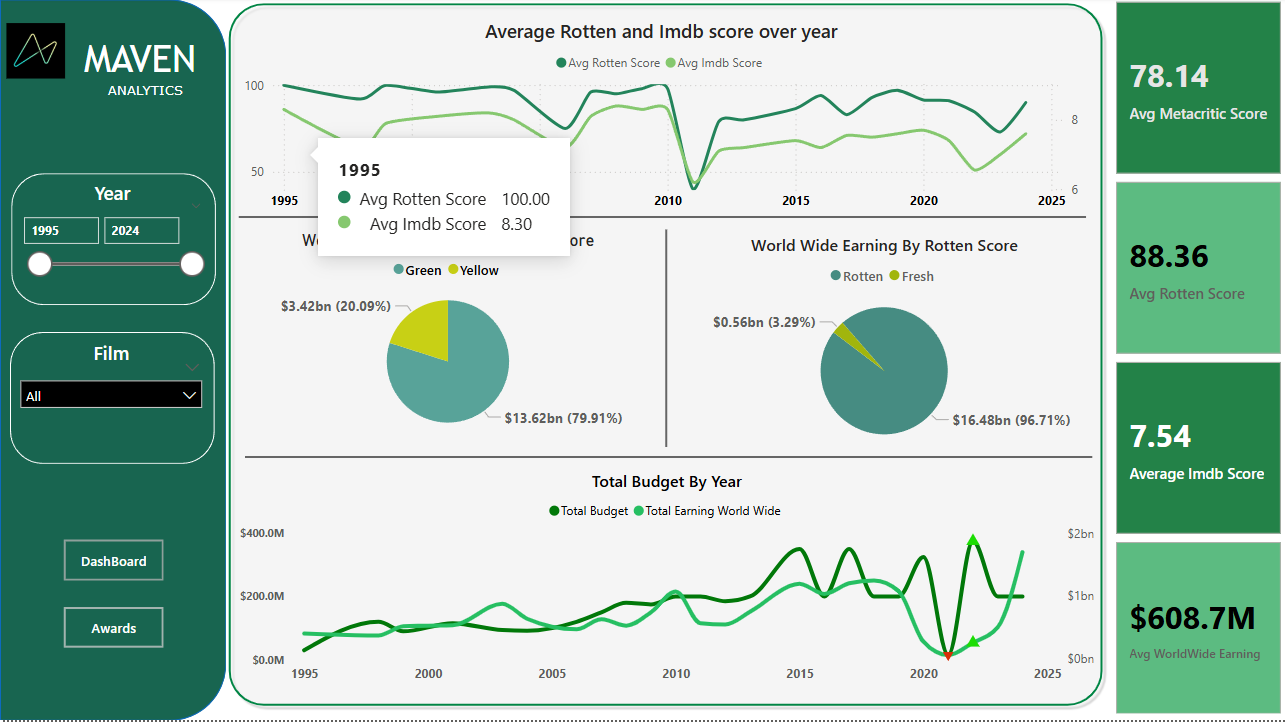

What the dashboard file says about the page in this screenshot:
{"tool":"powerbi","page":{"name":"Public Responce","canvas":[1280,720],"ordinal":1},"visuals":[{"type":"group","id":"g1","title":"Public  Reaction","box":[0,0,1280,720.3],"z":0},{"type":"shape","box":[221.4,0,882,711.5],"z":0,"group":"g1"},{"type":"shape","box":[0,2.5,225.2,717.8],"z":0,"group":"g2"},{"type":"shape","box":[11,175.5,203.7,131.3],"z":0,"group":"g4"},{"type":"shape","box":[9.8,333.7,203.7,131.3],"z":0,"group":"g3"},{"type":"group","id":"g2","title":"Heading And Shape","box":[0,2.5,225.2,717.8],"z":1000,"group":"g1"},{"type":"lineChart","title":"Average Rotten and Imdb score over year","fields":{"Category":["pixar_films.Year_income"],"Y":["Measures (2).Avg_rotten Score"],"Y2":["Measures (2).AVGImdb"]},"box":[237.6,21.1,840.9,200.3],"z":1000},{"type":"image","box":[0,21.7,71.9,65.2],"z":1000,"group":"g2"},{"type":"slicer","title":"Year","fields":{"Values":["pixar_films.Year_income"]},"box":[11,181.6,201.2,133.7],"z":1000,"group":"g4"},{"type":"slicer","title":"Film","fields":{"Values":["box_office.film"]},"box":[9.8,341.1,201.2,133.7],"z":1000,"group":"g3"},{"type":"cardVisual","fields":{"Data":["Measures (2).Avg_metaric Score","Measures (2).Avg_rotten Score","Measures (2).AVGImdb","Measures (2).WorldWide_avg_earning"]},"box":[1105.9,0,174.2,720.3],"z":2000,"group":"g1"},{"type":"textbox","box":[71.9,35,145.3,85.2],"z":2000,"group":"g2"},{"type":"group","id":"g3","title":"Slicer 2","box":[9.8,333.7,203.7,141.1],"z":2000},{"type":"group","id":"g4","title":"slicer 1","box":[11,175.5,203.7,139.9],"z":3000},{"type":"lineChart","title":"Total Budget By Year","fields":{"Category":["pixar_films.Year_income"],"Y":["Measures (2).Total_Budget"],"Y2":["Measures (2).Total_Earning_world"]},"box":[233.9,470.2,859.6,221.4],"z":3000,"group":"g1"},{"type":"shape","box":[243.8,445.3,843.4,24.9],"z":4000,"group":"g1"},{"type":"actionButton","box":[63.8,607.4,99.4,40.5],"z":4000},{"type":"shape","box":[237.6,206.5,843.4,24.9],"z":5000},{"type":"pieChart","title":"World Wide Earning By Metactric Score","fields":{"Y":["Measures (2).Total_Earning_world"],"Category":["public_response.Metactric Score"]},"box":[233.9,231.4,424.2,214],"z":5000,"group":"g1"},{"type":"pieChart","title":"World Wide Earning By Rotten Score","fields":{"Y":["Measures (2).Total_Earning_world"],"Category":["public_response.Rotten Score"]},"box":[668,235.1,424.2,222.7],"z":6000,"group":"g1"},{"type":"actionButton","box":[63.4,539.9,99.5,41.1],"z":6000},{"type":"shape","box":[613.3,231.4,99.5,216.4],"z":7000,"group":"g1"}]}

Visuals, with their boxes in screenshot pixels (x1, y1, x2, y2), scaled from the page's 1280x720 canvas onto the 1285x724 screenshot:
"Public  Reaction" group: x1=0, y1=0, x2=1284, y2=723
shape: x1=222, y1=0, x2=1108, y2=715
shape: x1=0, y1=3, x2=226, y2=723
shape: x1=11, y1=176, x2=216, y2=309
shape: x1=10, y1=336, x2=214, y2=468
"Heading And Shape" group: x1=0, y1=3, x2=226, y2=723
"Average Rotten and Imdb score over year" lineChart: x1=239, y1=21, x2=1083, y2=223
image: x1=0, y1=22, x2=72, y2=87
"Year" slicer: x1=11, y1=183, x2=213, y2=317
"Film" slicer: x1=10, y1=343, x2=212, y2=477
cardVisual - Measures (2).Avg_metaric Score x Measures (2).Avg_rotten Score: x1=1110, y1=0, x2=1284, y2=723
textbox: x1=72, y1=35, x2=218, y2=121
"Slicer 2" group: x1=10, y1=336, x2=214, y2=477
"slicer 1" group: x1=11, y1=176, x2=216, y2=317
"Total Budget By Year" lineChart: x1=235, y1=473, x2=1098, y2=695
shape: x1=245, y1=448, x2=1091, y2=473
actionButton: x1=64, y1=611, x2=164, y2=651
shape: x1=239, y1=208, x2=1085, y2=233
"World Wide Earning By Metactric Score" pieChart: x1=235, y1=233, x2=661, y2=448
"World Wide Earning By Rotten Score" pieChart: x1=671, y1=236, x2=1096, y2=460
actionButton: x1=64, y1=543, x2=164, y2=584
shape: x1=616, y1=233, x2=716, y2=450
